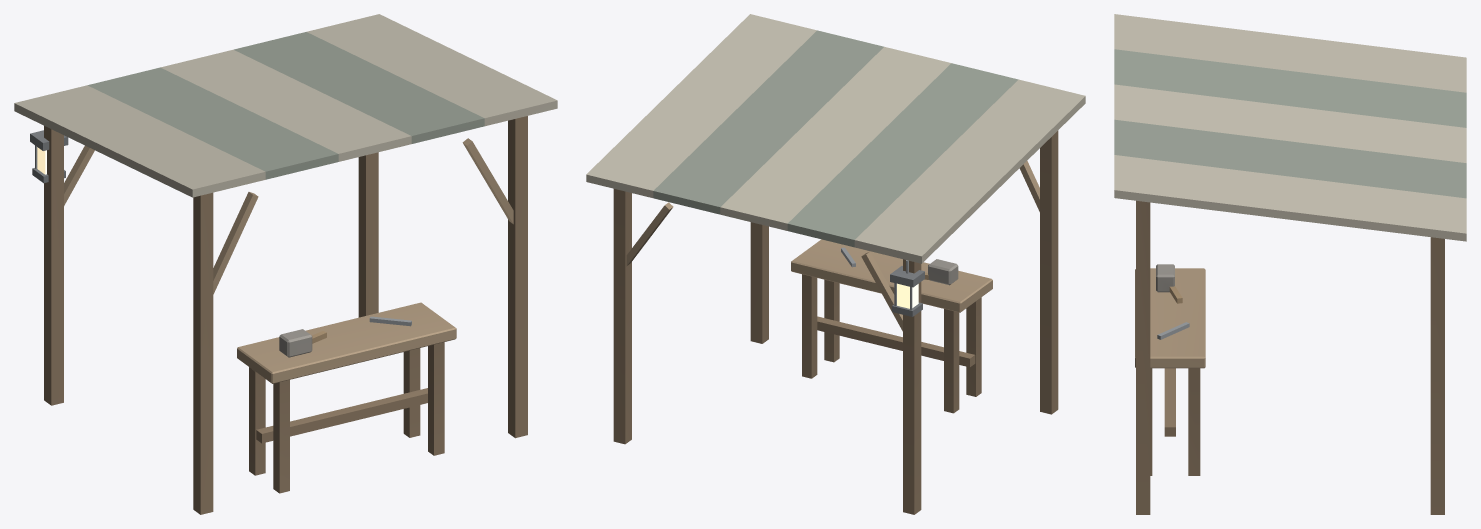
Rendered from work_tent.glb.
3 renders of one model, left to right at view 1: azimuth 30°, elevation 25°; view 2: azimuth 150°, elevation 25°; view 3: azimuth 270°, elevation 25°, orthographic. The views are drawn at different scales.
Visible parts, largest first — view 1: work_tent; view 2: work_tent; view 3: work_tent.
Boxes of the visible parts, box(x1,y1,x2,y2) form: work_tent: box(14, 14, 557, 514); work_tent: box(586, 14, 1085, 514); work_tent: box(1114, 14, 1466, 514).
Size of the model in its own units: 2.6 by 2.3 by 2.2.
